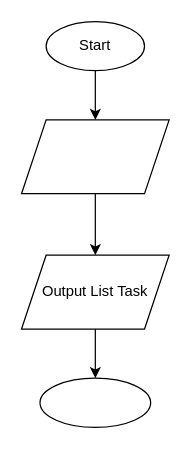
Image size: 191x449. Some labels were removed from this diagram. The shapes that lost their labels are listed below. From the top down, each one's centre as x and y in pixels, then its label:
At point 94,156: "Input Task".
At point 95,402: "End".
